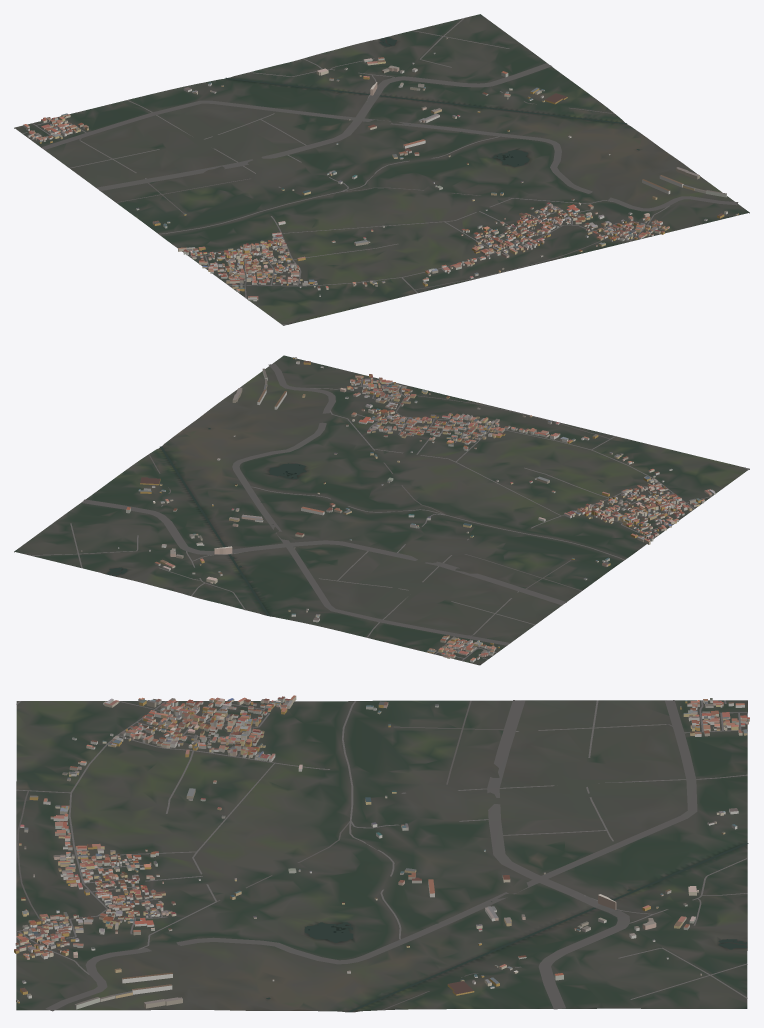
The picture shows the model from 3 angles, top to bottom: view 1: azimuth 30°, elevation 25°; view 2: azimuth 150°, elevation 25°; view 3: azimuth 270°, elevation 25°; orthographic projection. The views are drawn at different scales.
Visible parts, largest first — view 1: ground, buildings, roads, water; view 2: ground, buildings, roads, water; view 3: ground, buildings, roads, water.
Boxes of the visible parts, bbox=[...] form: ground: bbox=[14, 14, 749, 325]; buildings: bbox=[23, 37, 738, 301]; roads: bbox=[22, 18, 738, 324]; water: bbox=[225, 36, 639, 166]; ground: bbox=[14, 355, 749, 665]; buildings: bbox=[81, 357, 715, 662]; roads: bbox=[30, 363, 748, 660]; water: bbox=[106, 428, 306, 615]; ground: bbox=[16, 700, 747, 1012]; buildings: bbox=[14, 695, 749, 1009]; roads: bbox=[16, 700, 747, 1011]; water: bbox=[266, 842, 748, 1012].
Size of the model in its own units: 1413 by 23.41 by 1411.
